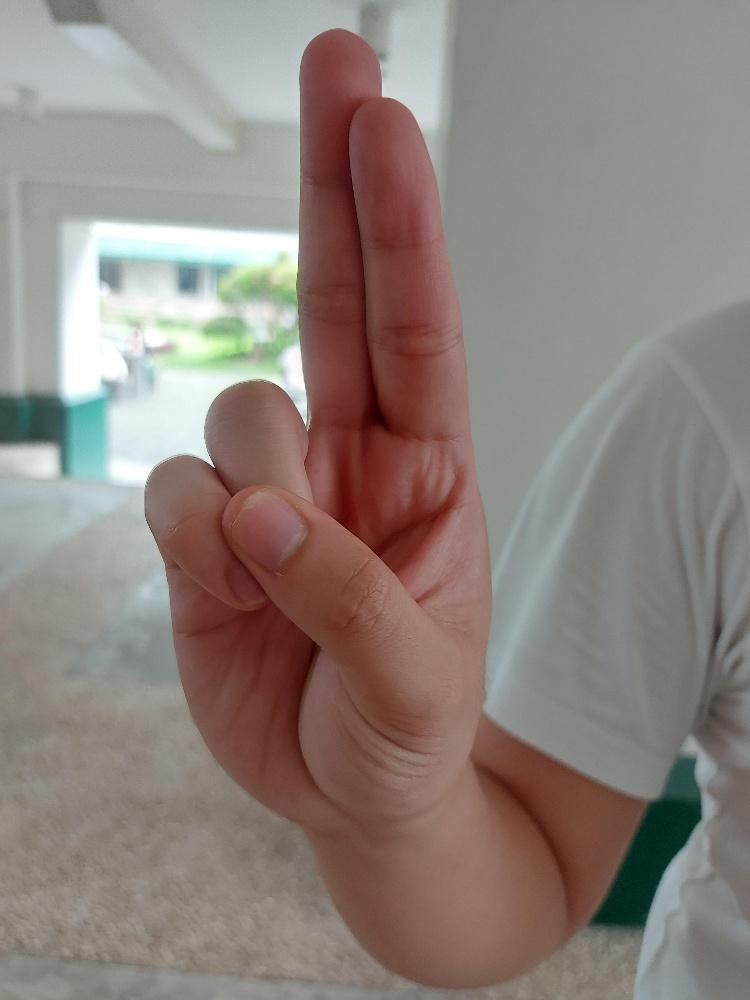u: (139, 20, 492, 818)
